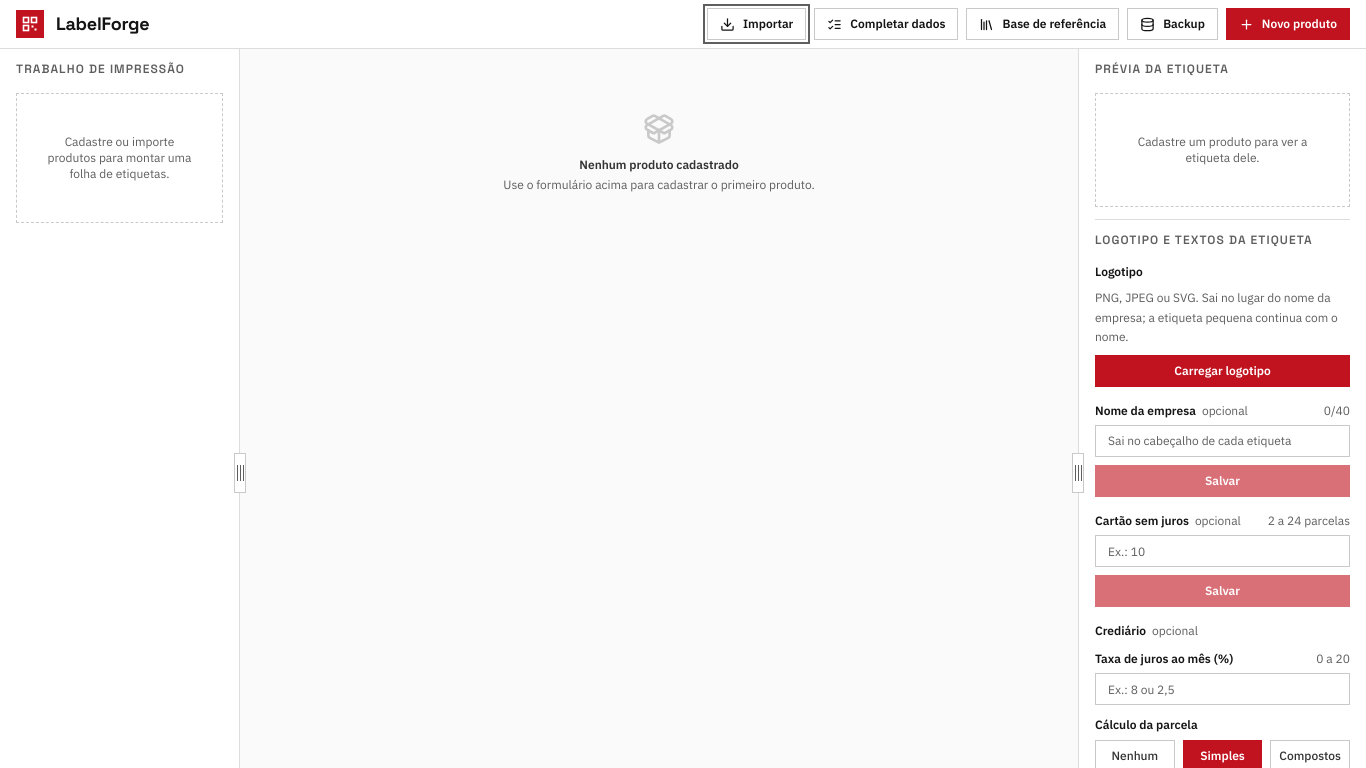
Test: completar dados pelo cabecalho › fica ao lado de Importar, e os dois abrem dialogos diferentes
Click the button "Importar" at [757, 24], box [707,8,806,40]
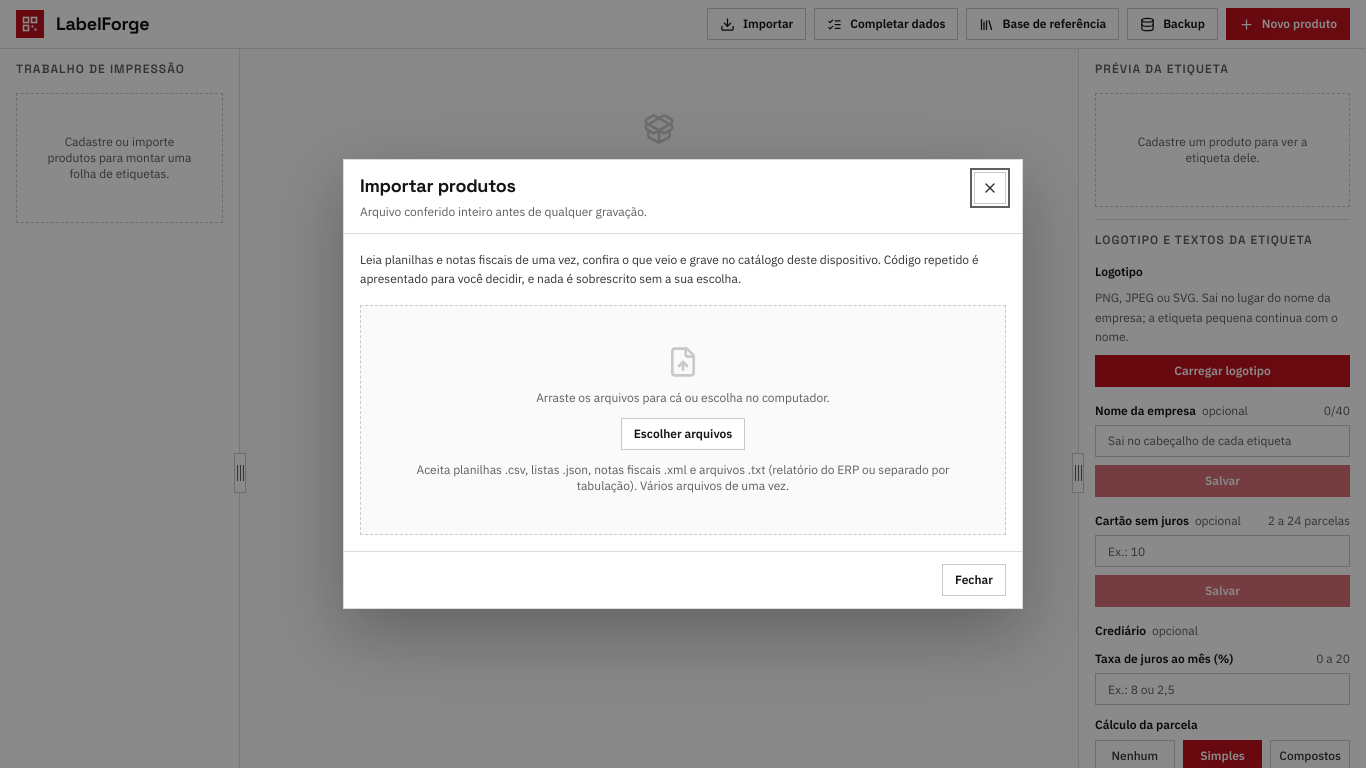
expect the heading "Importar produtos" is shown: met, box [360,174,516,197]
